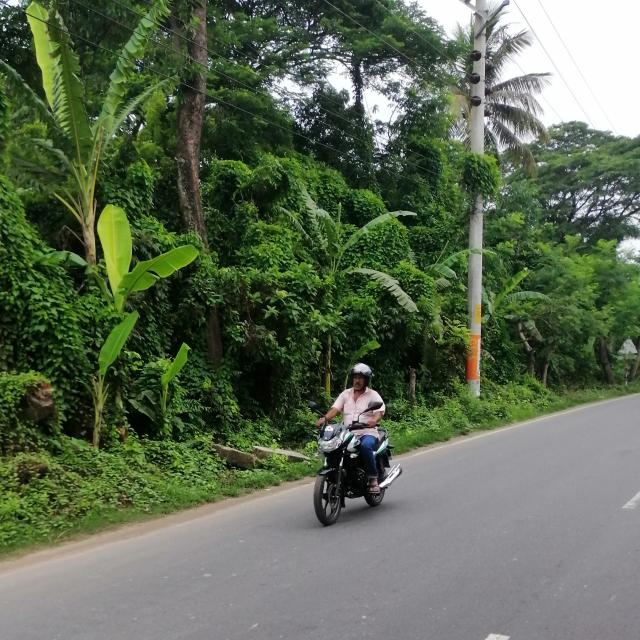Motorbike: (308, 415, 406, 529)
